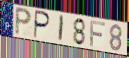8: (72, 16, 86, 47), (109, 23, 123, 52)
F: (89, 20, 107, 48)
I: (58, 14, 65, 43)
P: (14, 5, 33, 37), (33, 9, 52, 40)
